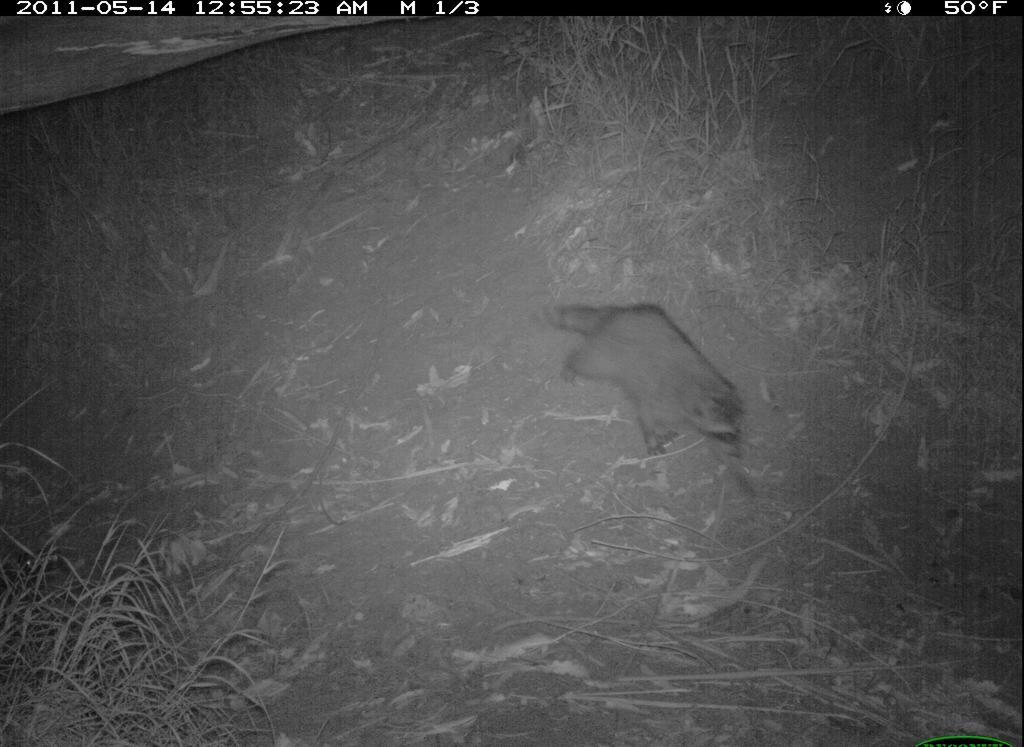raccoon: (527, 278, 784, 521)
